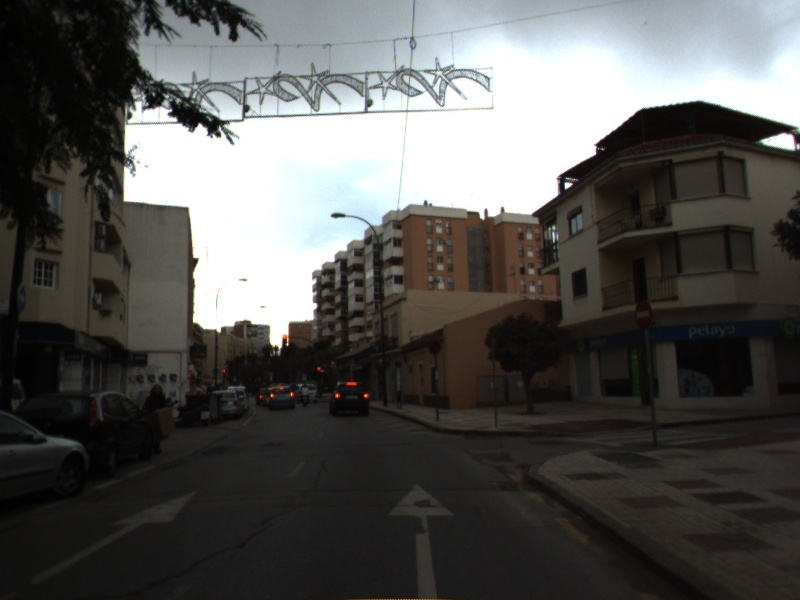STRAIGHT: (25, 486, 200, 587), (383, 480, 458, 600)
